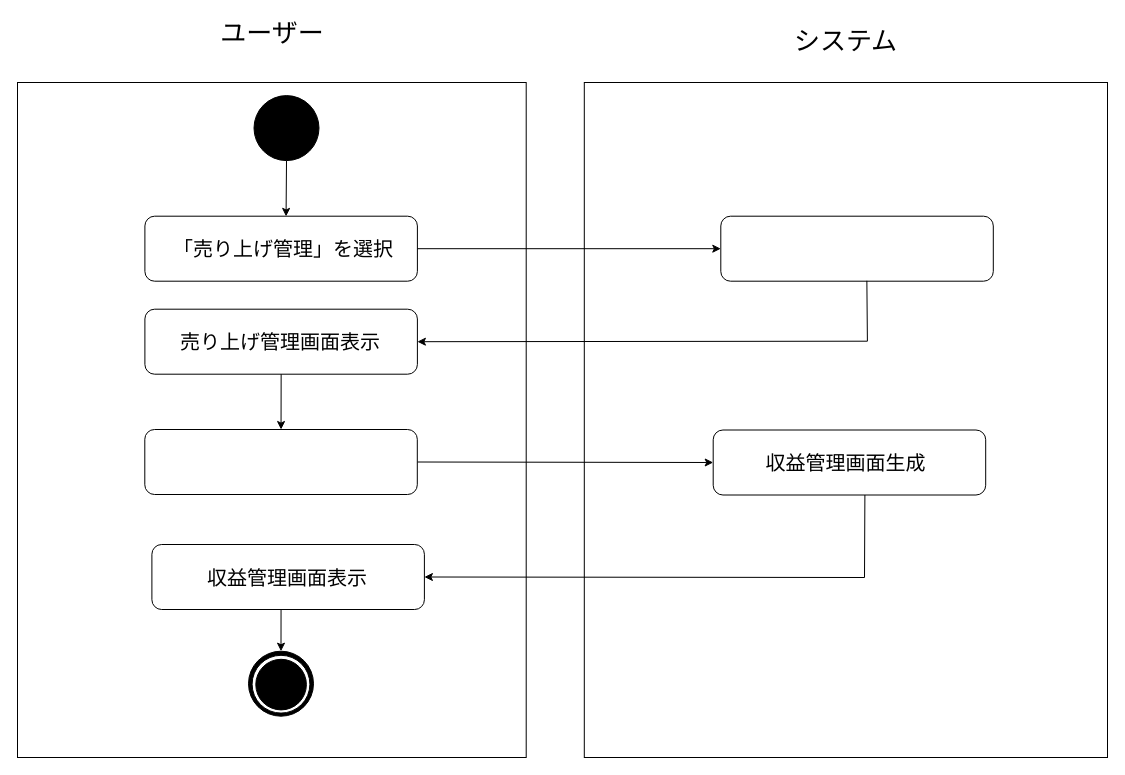
The diagram is 1125 pixels wide and 775 high, and some of its shapes have lost their labels. The centre of each missing label's shape, as x and y in pixels:
"「収益管理」を選択" belongs at (280,461).
"売り上げ管理画面生成" belongs at (856,248).
